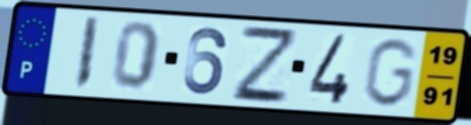0: (111, 19, 163, 94)
4: (307, 33, 352, 106)
6: (182, 25, 229, 97)
G: (360, 36, 421, 110)
I: (71, 15, 103, 92)
Z: (230, 22, 297, 105)
